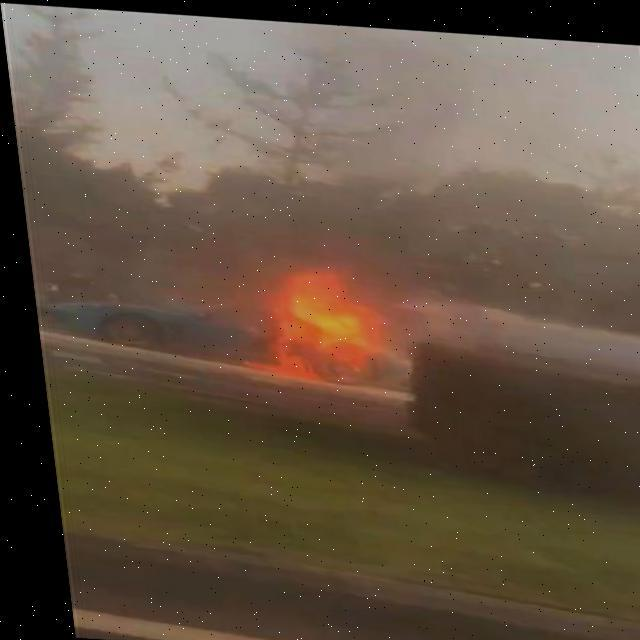Fire: (244, 264, 395, 386)
